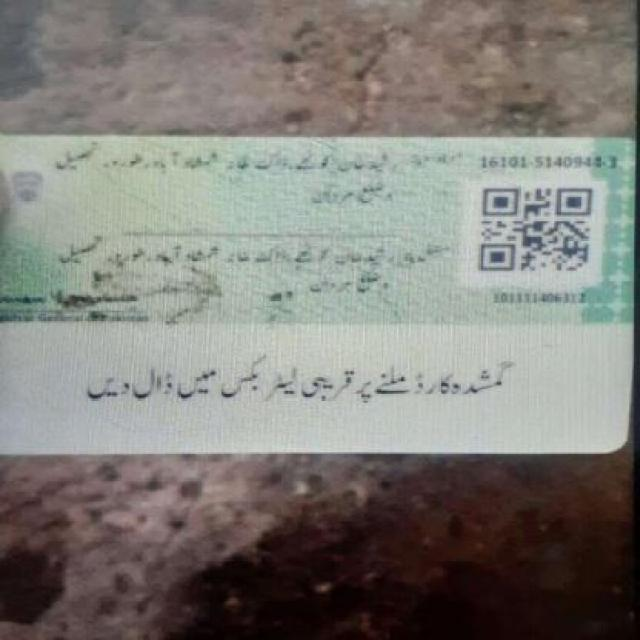Back: (5, 129, 632, 460)
